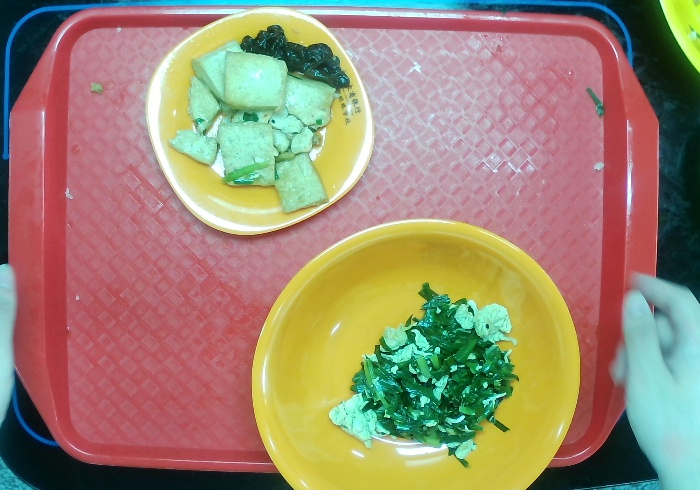YKMZ-Ju_Se_Fang_Die: (136, 1, 381, 248)
YKMZ-Ju_Se_Tang_Wan: (244, 198, 593, 490)
